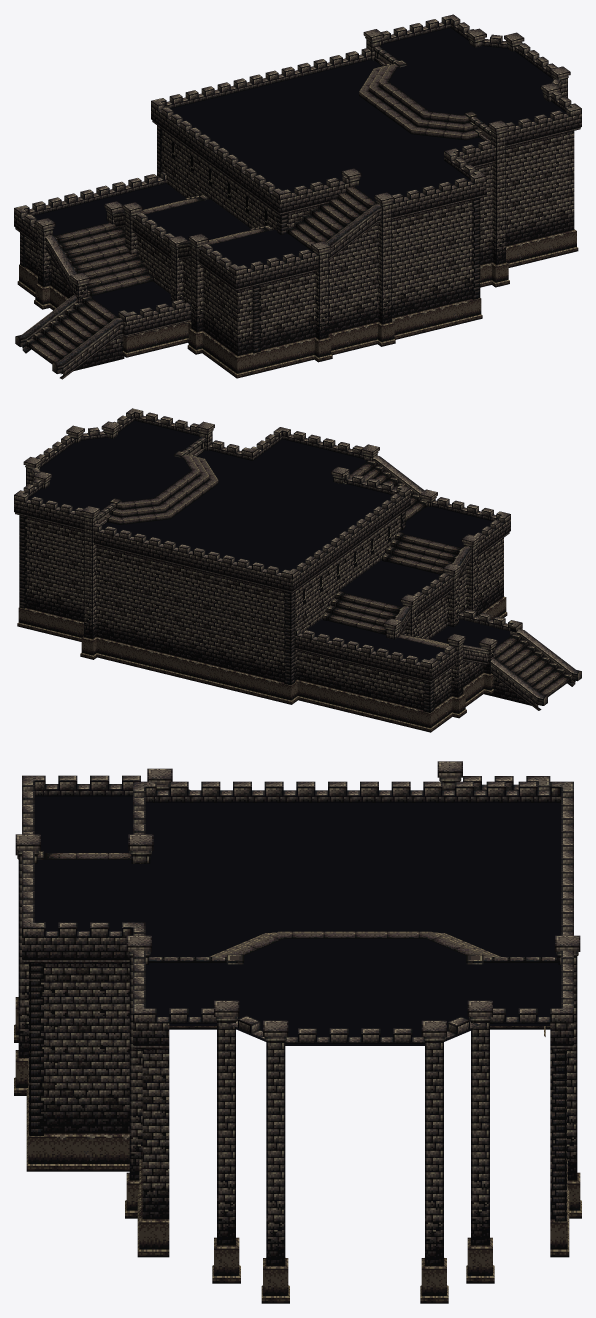
The model's file is EnvBdgMD_Forest_MothersGarden_B.FBX.
3 views of the same model, one above another, from view 1: azimuth 30°, elevation 25°; view 2: azimuth 150°, elevation 25°; view 3: azimuth 270°, elevation 25° (orthographic). The views are drawn at different scales.
Visible parts, largest first — view 1: EnvBdgMD_Forest_MothersGarden_B; view 2: EnvBdgMD_Forest_MothersGarden_B; view 3: EnvBdgMD_Forest_MothersGarden_B.
Part boxes in pixels (box(x1,y1,x2,y2)): EnvBdgMD_Forest_MothersGarden_B: box(14, 14, 581, 379); EnvBdgMD_Forest_MothersGarden_B: box(14, 408, 581, 732); EnvBdgMD_Forest_MothersGarden_B: box(14, 761, 581, 1303).
Size of the model in its own units: 3335 by 995 by 1790.
